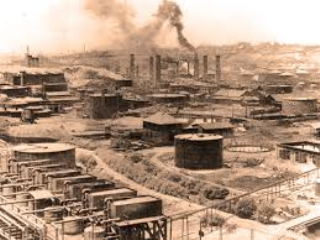smoke: (82, 1, 216, 60)
